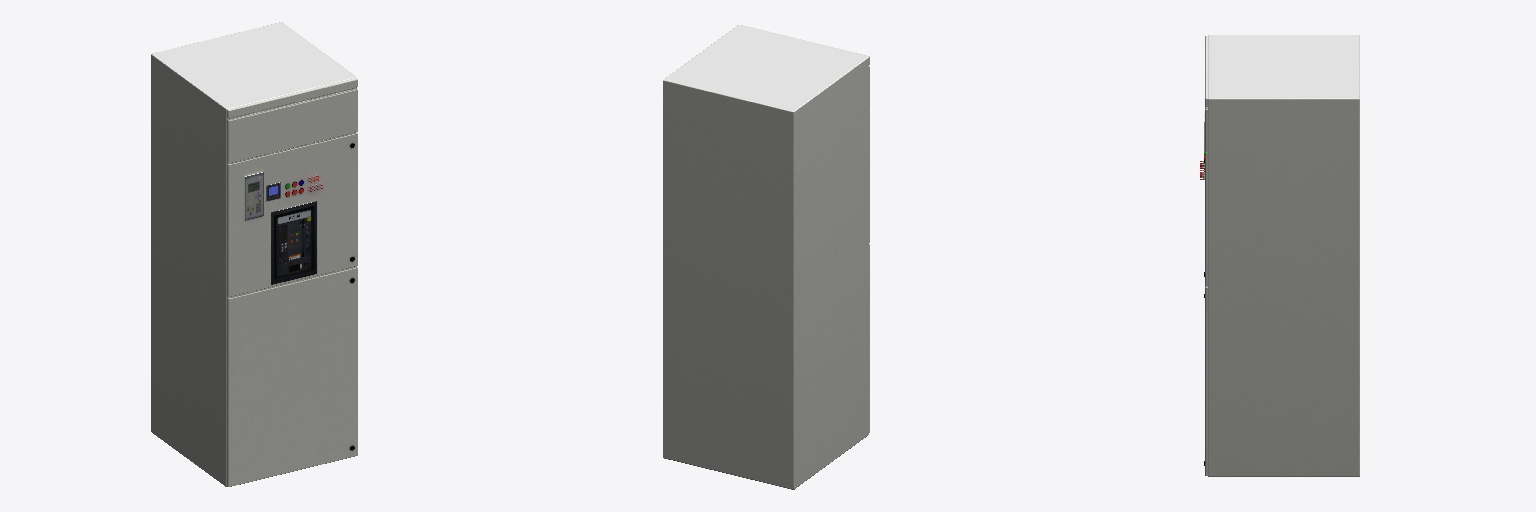
3 renders of one model, left to right at view 1: azimuth 30°, elevation 25°; view 2: azimuth 150°, elevation 25°; view 3: azimuth 270°, elevation 25°, orthographic.
Parts seen in each view (by area): view 1: ChamferBox23; view 2: ChamferBox23; view 3: ChamferBox23.
Boxes of the visible parts, x1,y1,x2,y2 form: ChamferBox23: [151, 22, 357, 486]; ChamferBox23: [663, 25, 869, 489]; ChamferBox23: [1200, 35, 1359, 476].
Size of the model in its own units: 80 by 220 by 83.97.
Materials: 1 (1 with a texture image).